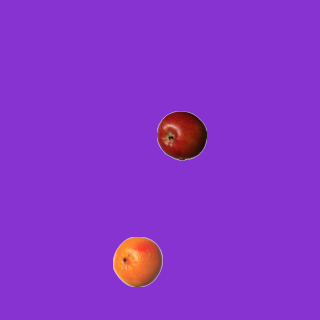Apple Braeburn: (156, 110, 206, 160)
Grapefruit Pink: (112, 236, 162, 286)
